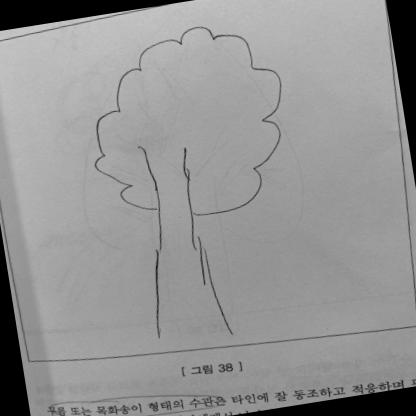crown_cloud: (76, 14, 298, 232)
trunk_straight: (140, 220, 223, 322)
